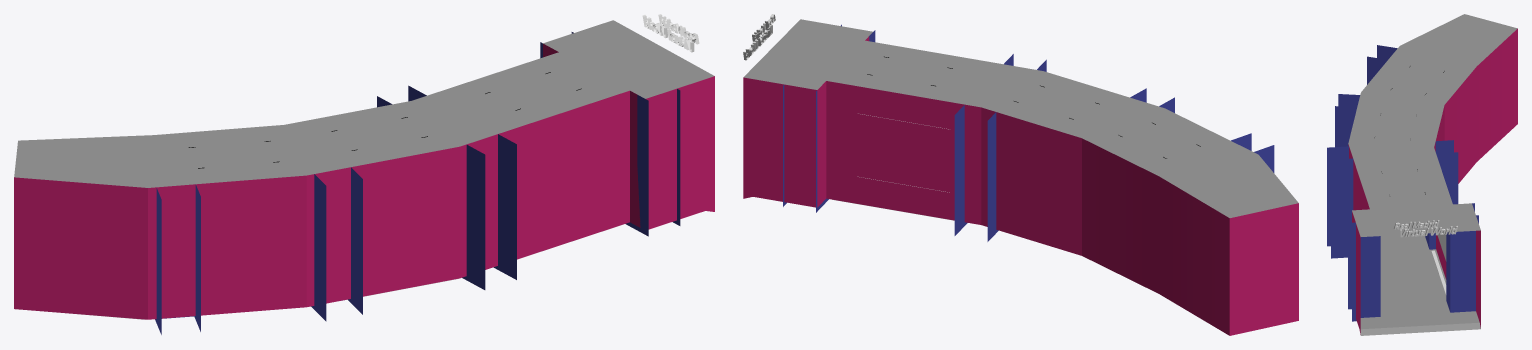
File: pasilloEntradaTour.FBX
The picture shows the model from 3 angles, left to right: view 1: azimuth 30°, elevation 25°; view 2: azimuth 150°, elevation 25°; view 3: azimuth 270°, elevation 25°; orthographic projection. The views are drawn at different scales.
Visible parts, largest first — view 1: pasillo, textoEntrada; view 2: pasillo, textoEntrada; view 3: pasillo, textoEntrada, autoilum_suelo, cuadro.
Boxes of the visible parts, box(x1,y1,x2,y2) form: pasillo: box(14, 20, 714, 334); textoEntrada: box(642, 14, 699, 52); pasillo: box(743, 19, 1298, 335); textoEntrada: box(743, 14, 775, 60); pasillo: box(1327, 14, 1517, 335); textoEntrada: box(1394, 220, 1457, 237); autoilum_suelo: box(1431, 250, 1446, 295); cuadro: box(1437, 232, 1446, 261).
Size of the model in its own units: 1290 by 306 by 460.
